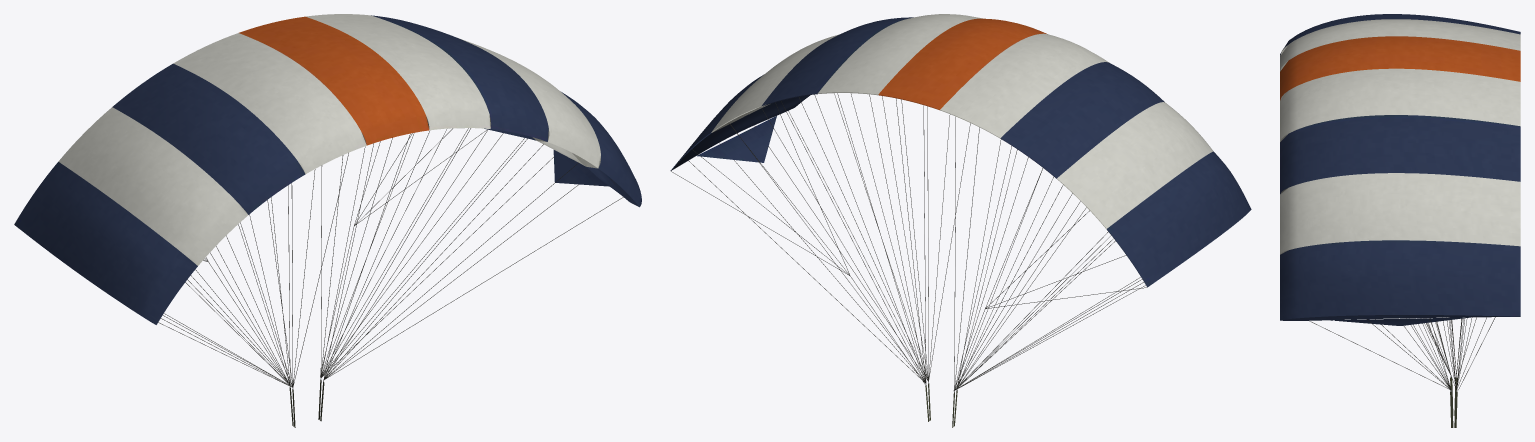
The model's file is parachute.glb.
3 views of the same model, side by side, from view 1: azimuth 30°, elevation 25°; view 2: azimuth 150°, elevation 25°; view 3: azimuth 270°, elevation 25° (orthographic). The views are drawn at different scales.
Parts seen in each view (by area): view 1: canopy, lines; view 2: canopy, lines; view 3: canopy, lines, risers.
Boxes of the visible parts, x1,y1,x2,y2 form: canopy: (14, 14, 641, 324); lines: (158, 128, 623, 387); canopy: (670, 14, 1251, 287); lines: (671, 93, 1146, 390); canopy: (1280, 14, 1520, 325); lines: (1309, 317, 1495, 389); risers: (1450, 376, 1457, 427).
Size of the model in its own units: 6.55 by 4.63 by 2.7.
2 materials, 1 textured.
